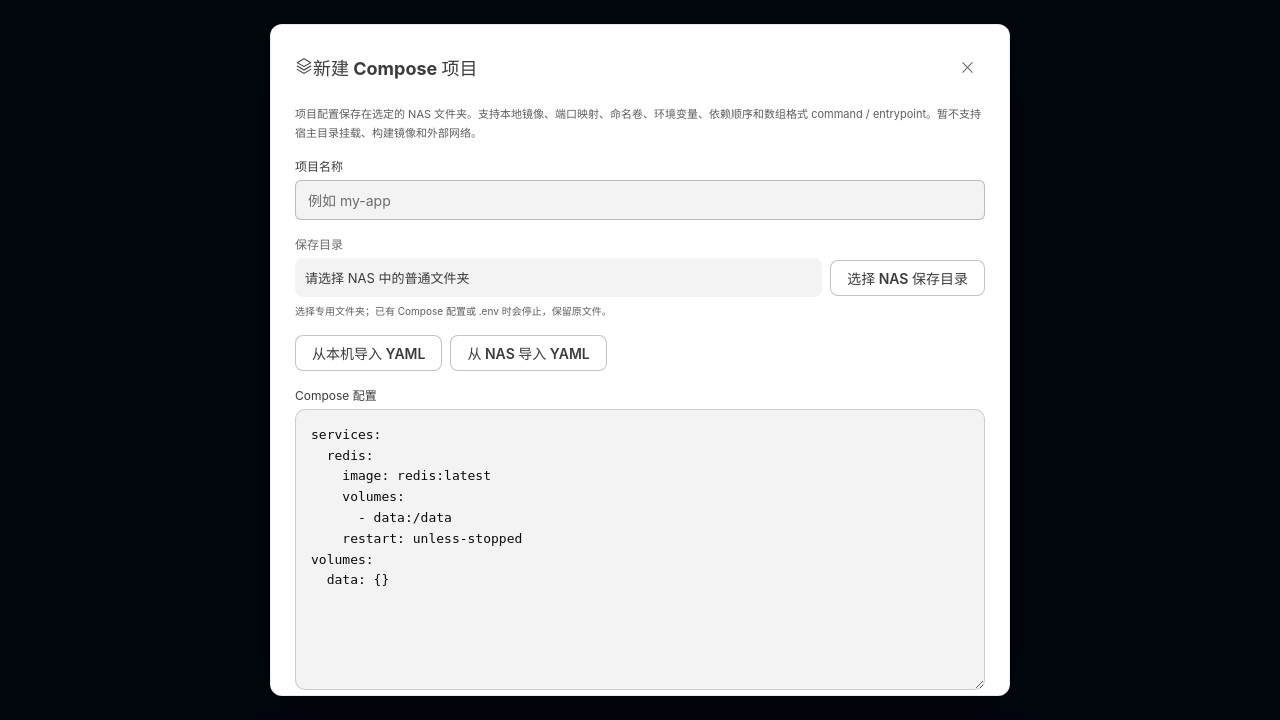
it: requires a NAS save directory and a preview before deploying the reviewed files
In the field named "Compose 项目名称": (640, 200) top-left (295, 180), bottom-right (985, 220), type "review"
Click the button "选择 NAS 保存目录": (908, 278) top-left (830, 260), bottom-right (985, 296)
(page scrolled)
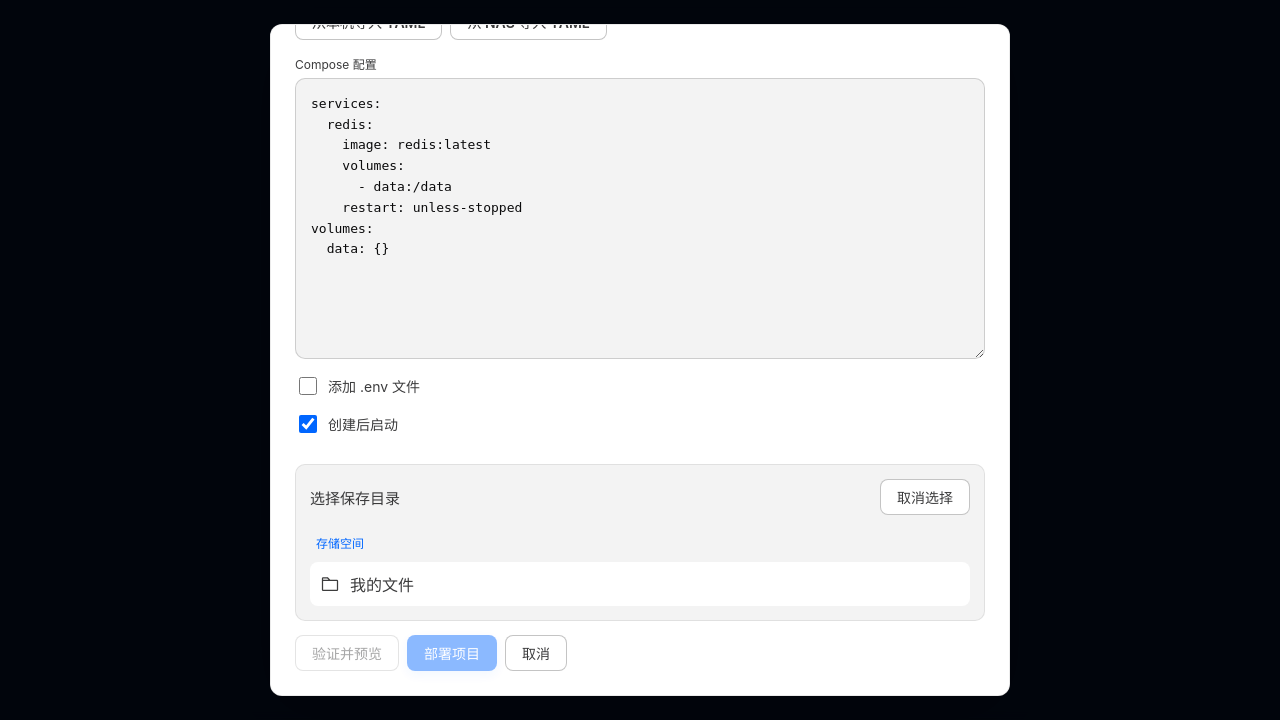
Click the button with aria-label "打开 我的文件": (382, 585) top-left (310, 562), bottom-right (970, 606)
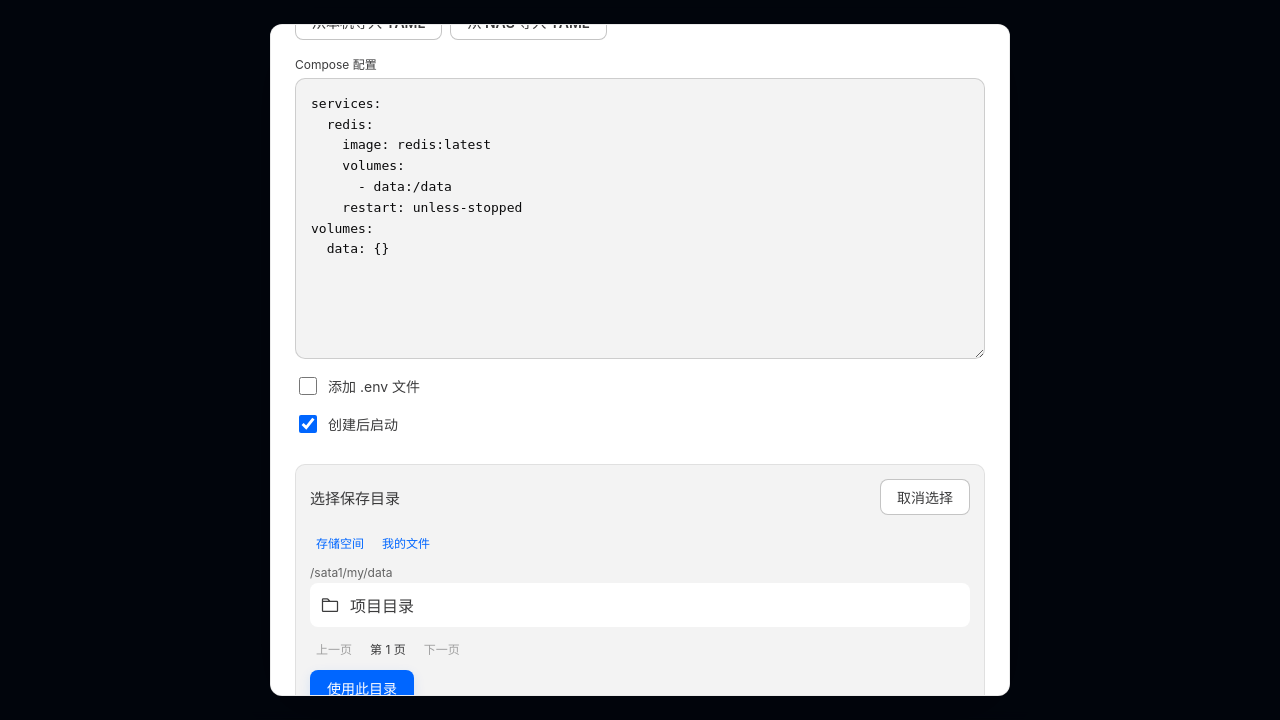
Click the button with aria-label "打开 项目目录": (382, 606) top-left (310, 583), bottom-right (970, 627)
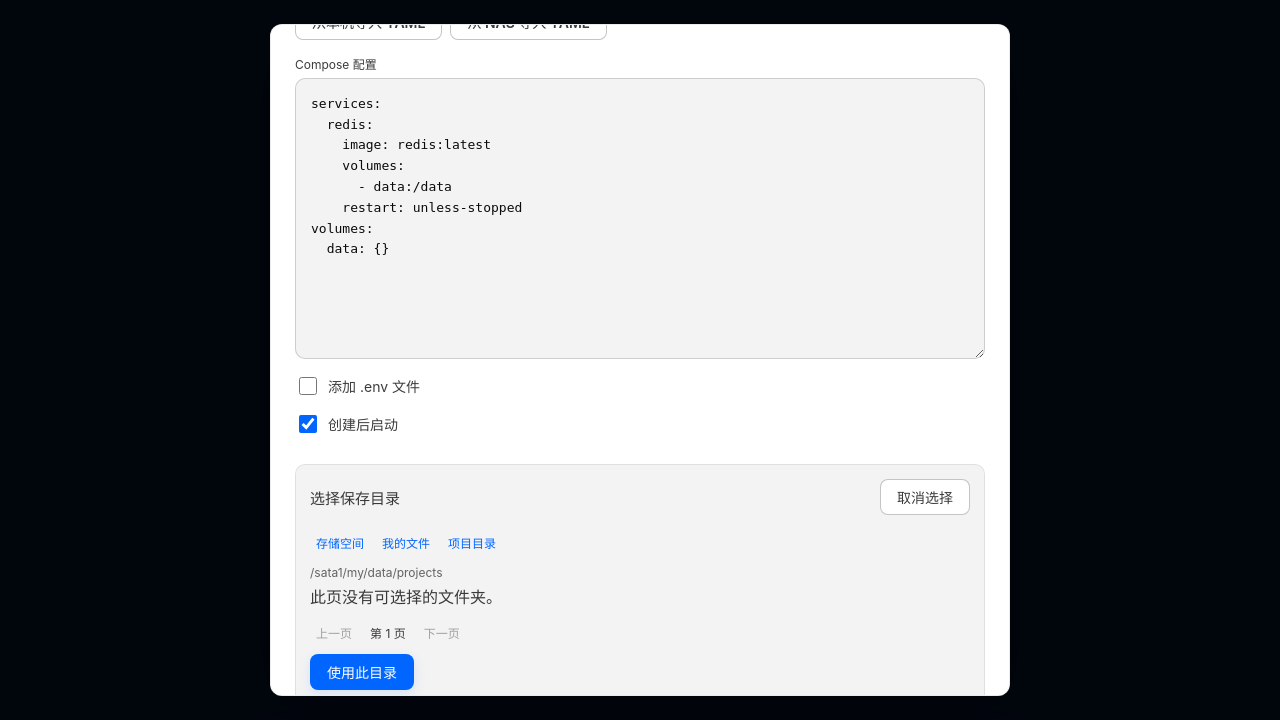
Click the button "使用此目录": (362, 672) top-left (310, 654), bottom-right (414, 690)
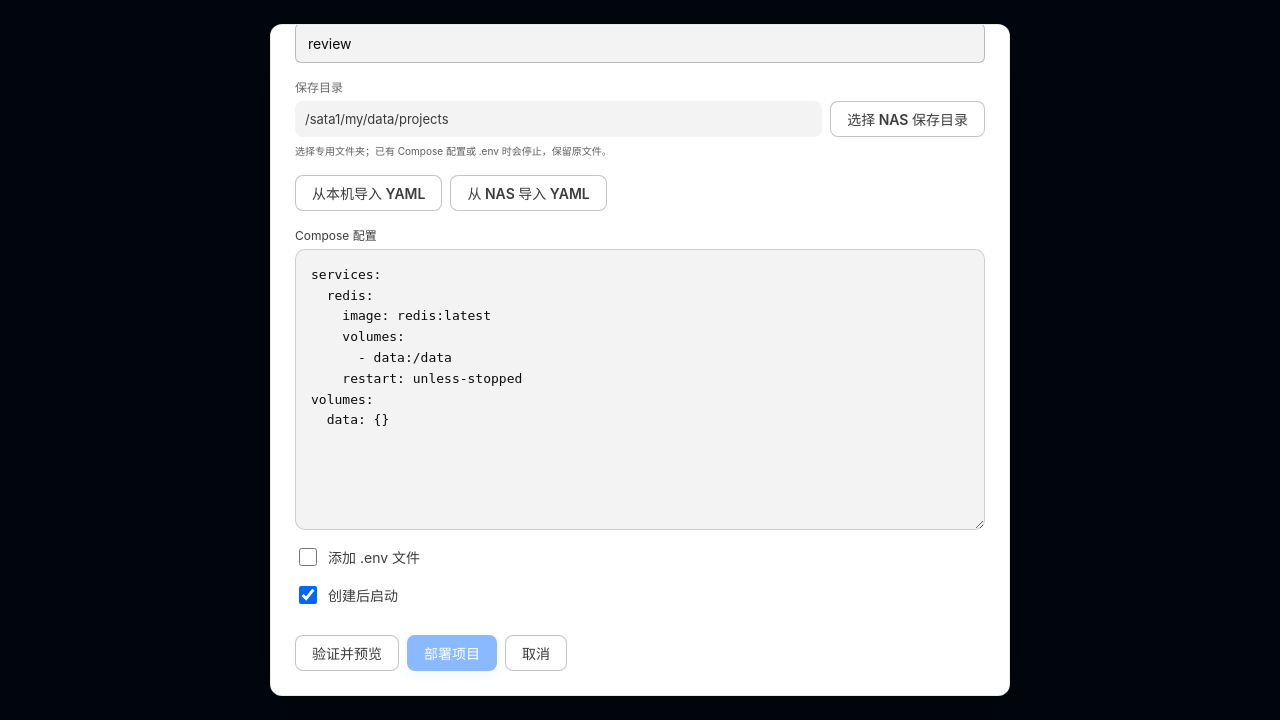
expect the button "部署项目" is disabled: met, box top-left (407, 635), bottom-right (497, 671)
Click the button "验证并预览": (347, 653) top-left (295, 635), bottom-right (399, 671)
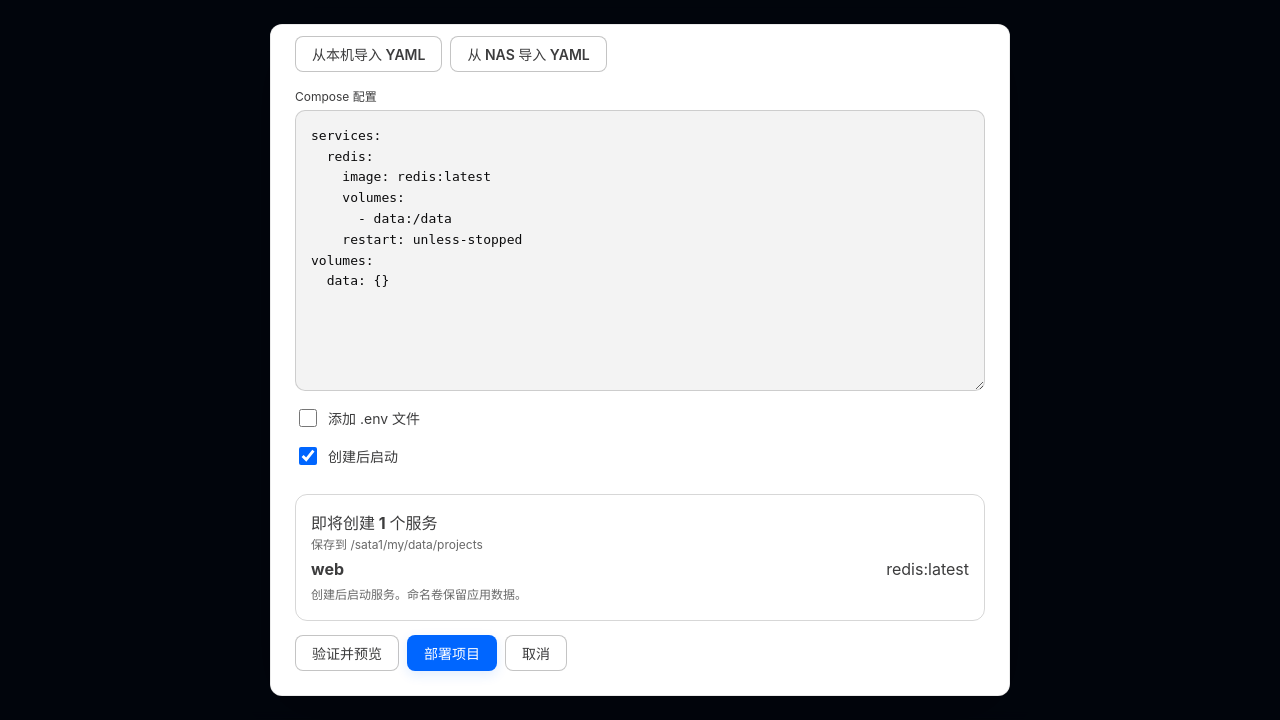
expect the text "redis:latest" is shown: met, box top-left (886, 555), bottom-right (969, 583)
Click the button "部署项目": (452, 653) top-left (407, 635), bottom-right (497, 671)
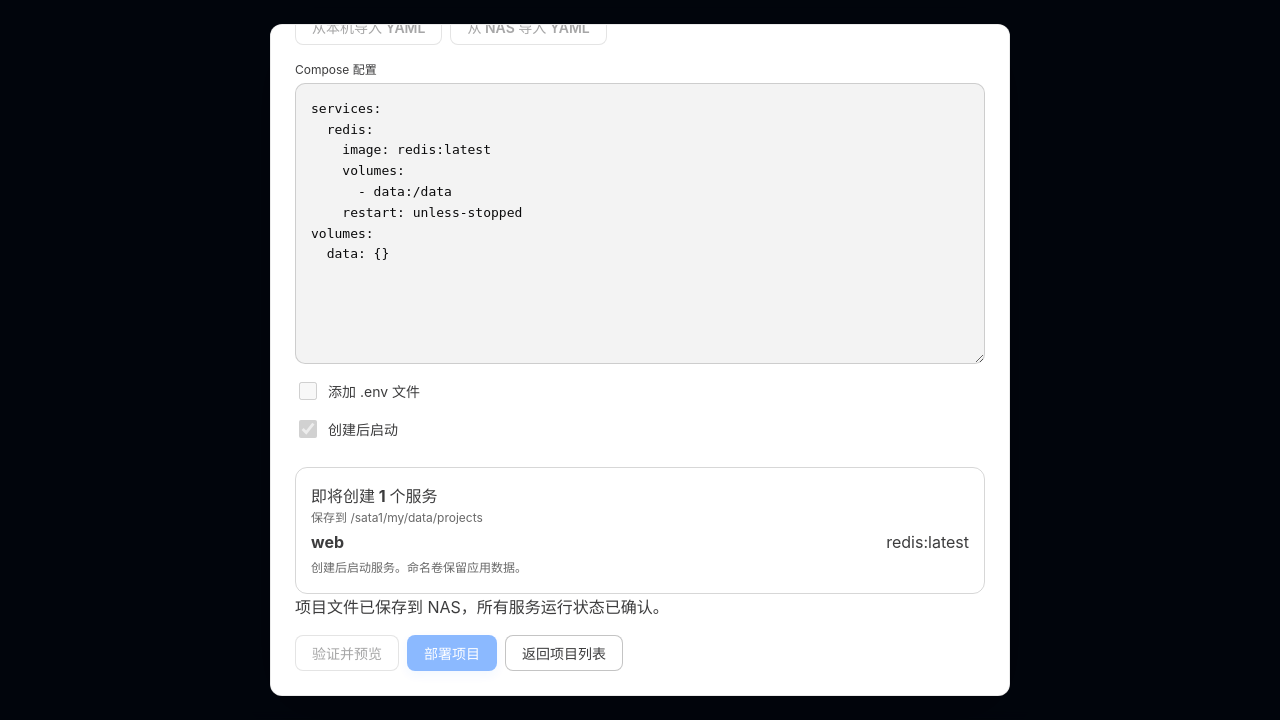
expect the text "项目文件已保存到 NAS，所有服务运行状态已确认。" is shown: met, box top-left (295, 597), bottom-right (669, 617)
